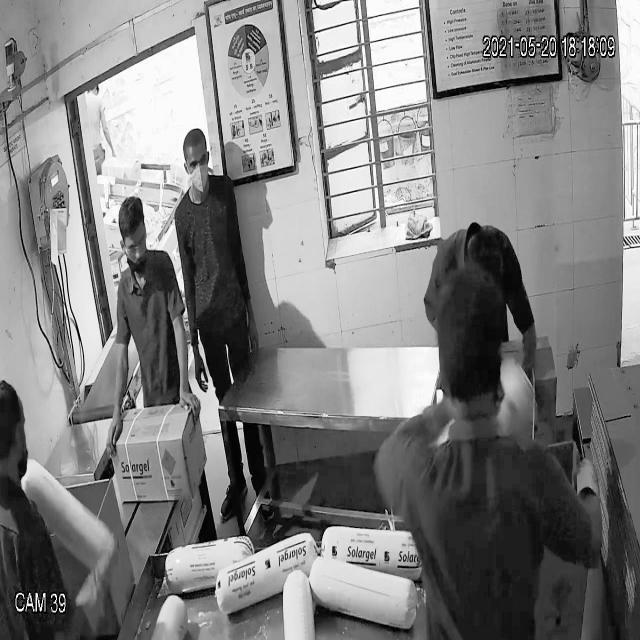glasses: (120, 232, 152, 258)
no-glass: (182, 145, 214, 172)
